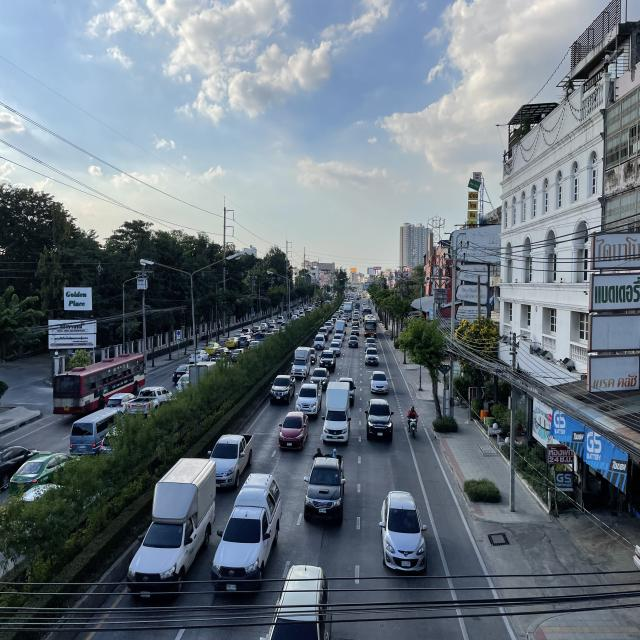bike: (405, 402, 419, 440)
bus: (364, 314, 377, 338)
car: (258, 563, 332, 640), (380, 489, 428, 575), (304, 451, 344, 524), (206, 432, 254, 489), (278, 411, 309, 451), (269, 374, 296, 406), (310, 367, 330, 391), (370, 370, 389, 394)
truck: (125, 458, 216, 600), (210, 474, 282, 596), (321, 381, 351, 445), (295, 378, 322, 419), (291, 346, 311, 379), (334, 320, 345, 342)
